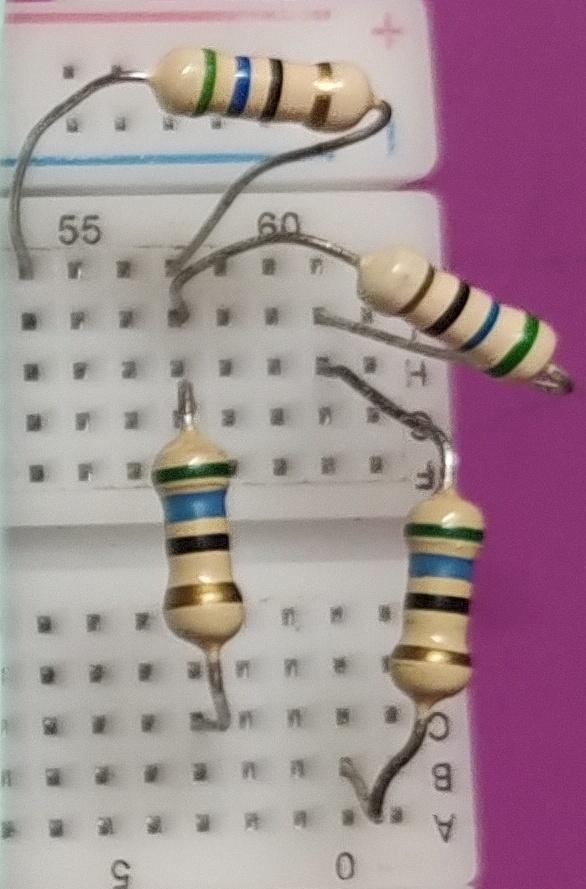resistor: (349, 225, 563, 406), (129, 425, 257, 668), (142, 39, 388, 142), (379, 479, 487, 712)
